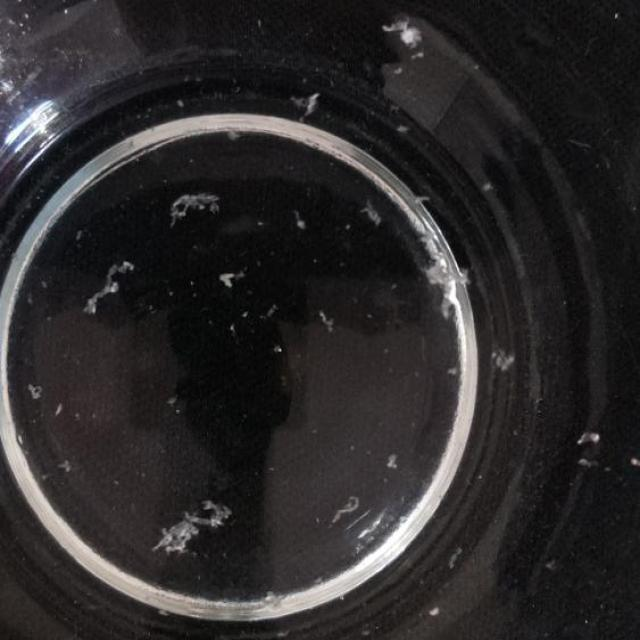fiber: (136, 501, 241, 559), (67, 243, 136, 322), (415, 247, 471, 323), (318, 485, 363, 533), (164, 190, 225, 220), (489, 334, 522, 385), (381, 16, 425, 52), (284, 80, 328, 116), (358, 196, 392, 232), (210, 256, 243, 291), (568, 423, 606, 452), (317, 294, 343, 334), (381, 446, 407, 478), (23, 378, 45, 405), (459, 630, 491, 639)
